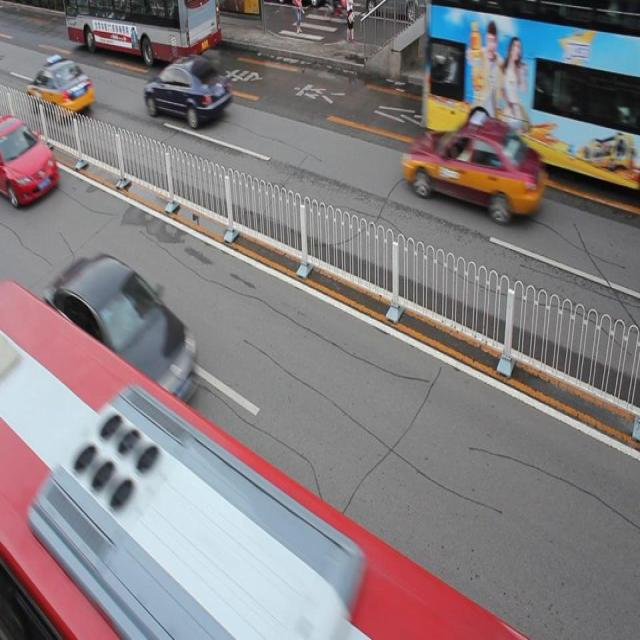car: (44, 252, 198, 406), (402, 110, 546, 224), (143, 56, 230, 127), (0, 114, 60, 206), (28, 55, 95, 120)
van: (1, 277, 524, 640), (424, 1, 640, 189), (65, 1, 221, 63)
